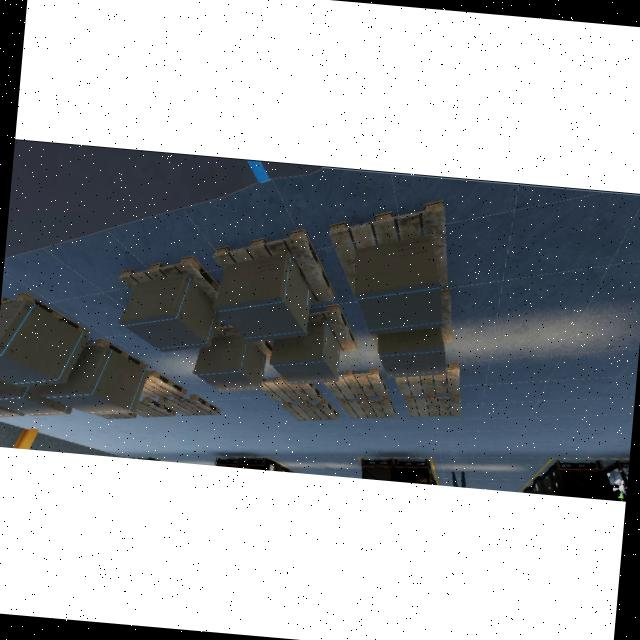wooden_pallet: (328, 199, 448, 299), (212, 228, 335, 303), (117, 254, 221, 303), (0, 293, 89, 336), (308, 305, 358, 353), (394, 363, 459, 395), (82, 338, 147, 369), (323, 368, 388, 399), (259, 376, 322, 402), (157, 395, 221, 417), (404, 392, 460, 417), (338, 395, 396, 418), (140, 370, 187, 398), (281, 399, 339, 421), (132, 397, 176, 418)
